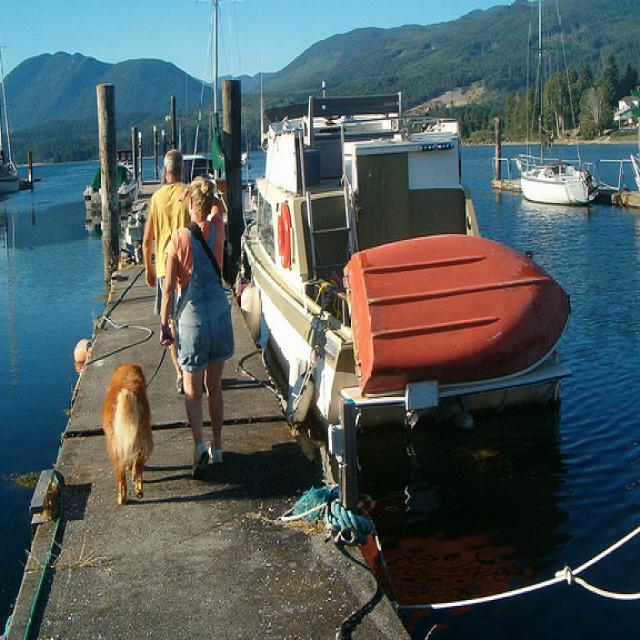houseboat: (210, 61, 573, 429)
